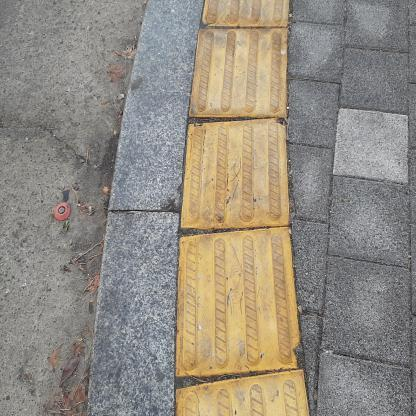podotacti: (165, 0, 317, 415)
